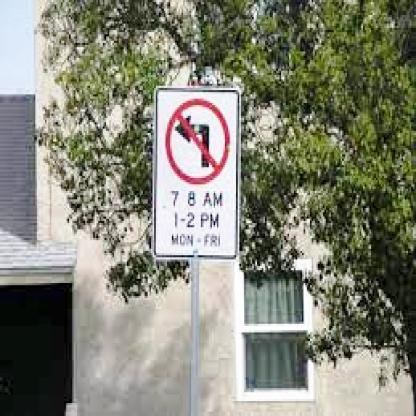No left turn: (151, 86, 240, 186)
